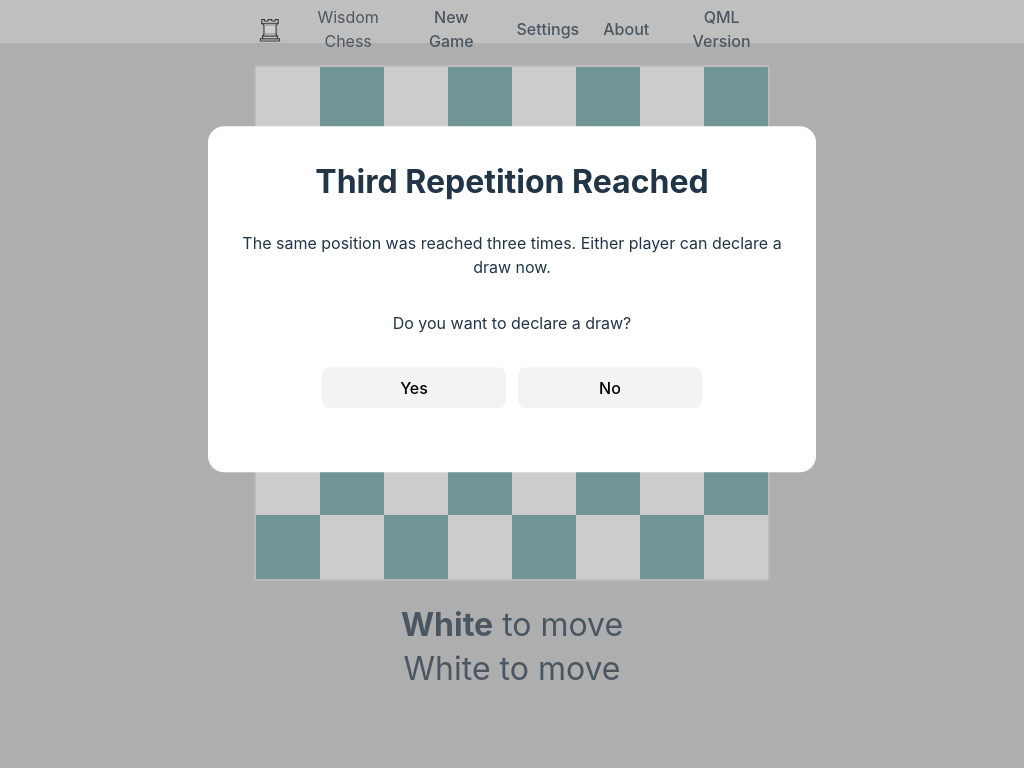
Test case: App › asks about a draw again after a new game is started
This screenshot has width=1024, height=768.
Expected: the heading "Third Repetition Reached" is shown, [315,162,709,201]
Click the button "No" at {"x": 610, "y": 388}, box [518,367,702,408]
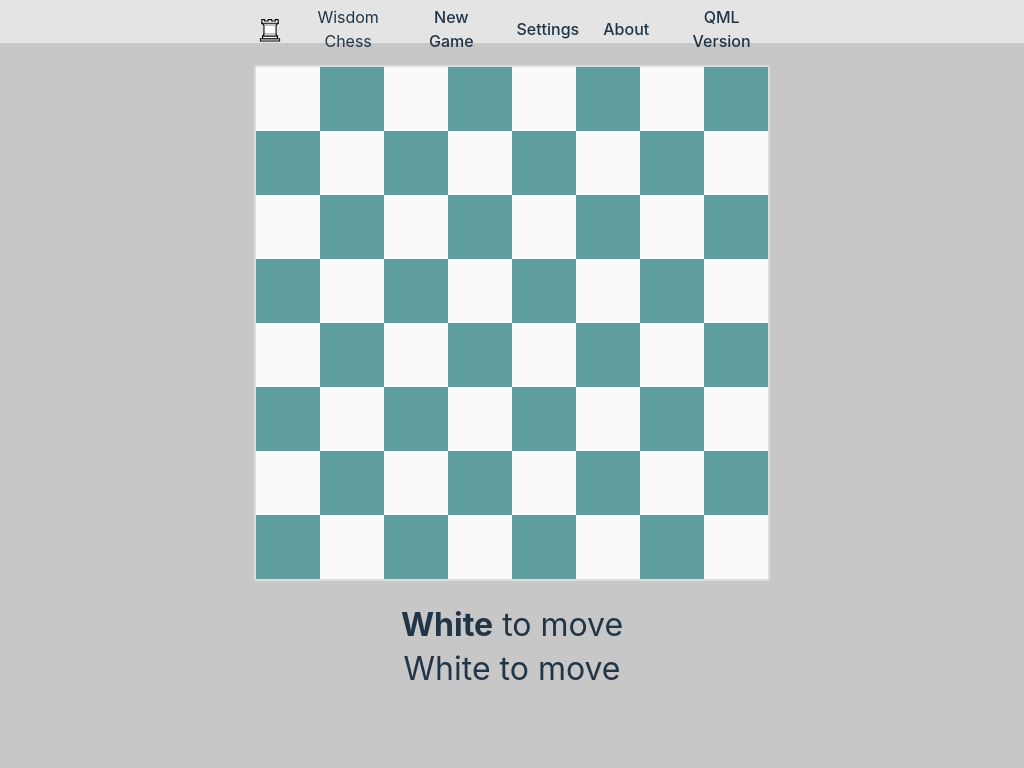
Expected: the heading "Third Repetition Reached" is gone
Click the link "New Game" at {"x": 451, "y": 29}, box [429,7,474,51]
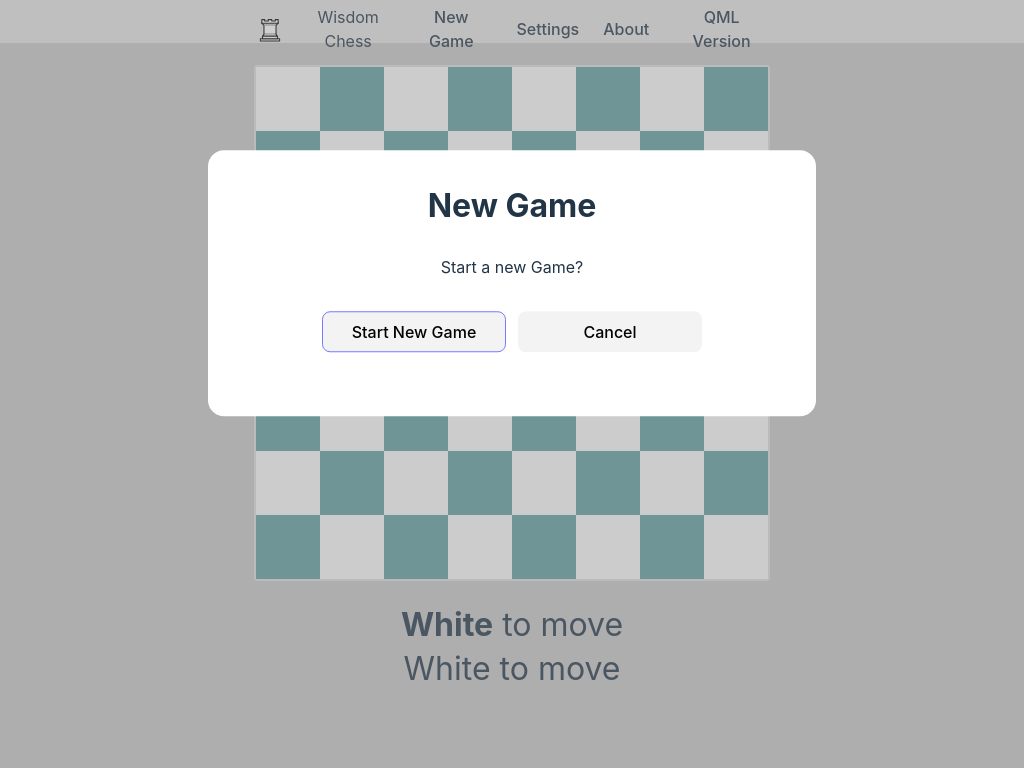
Click the button "Start New Game" at {"x": 414, "y": 332}, box [322,311,506,352]
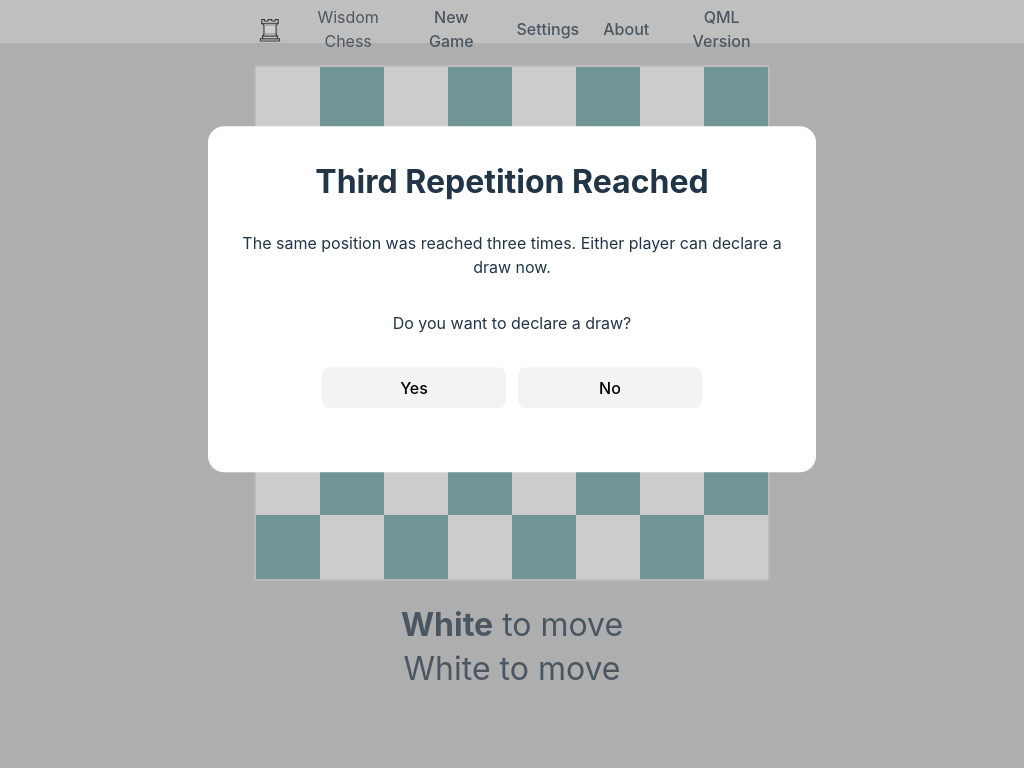
Expected: the heading "Third Repetition Reached" is shown, [315,162,709,201]
